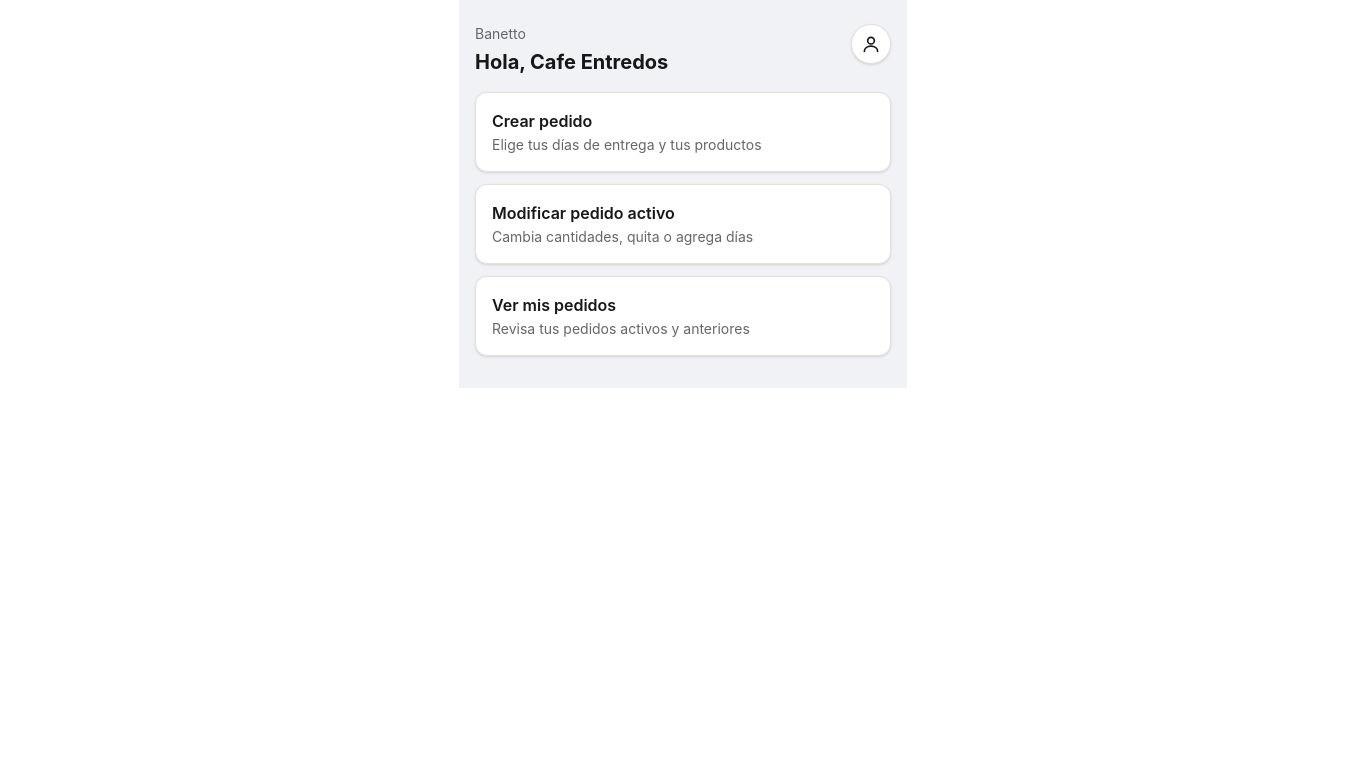
menú: botón de cuenta › varios clientes: «Cambiar de cliente» hace lo de siempre y cierra el menú; tocar fuera también lo cierra
Click the button named "Tu cuenta": click(871, 44) [851, 24, 891, 64]
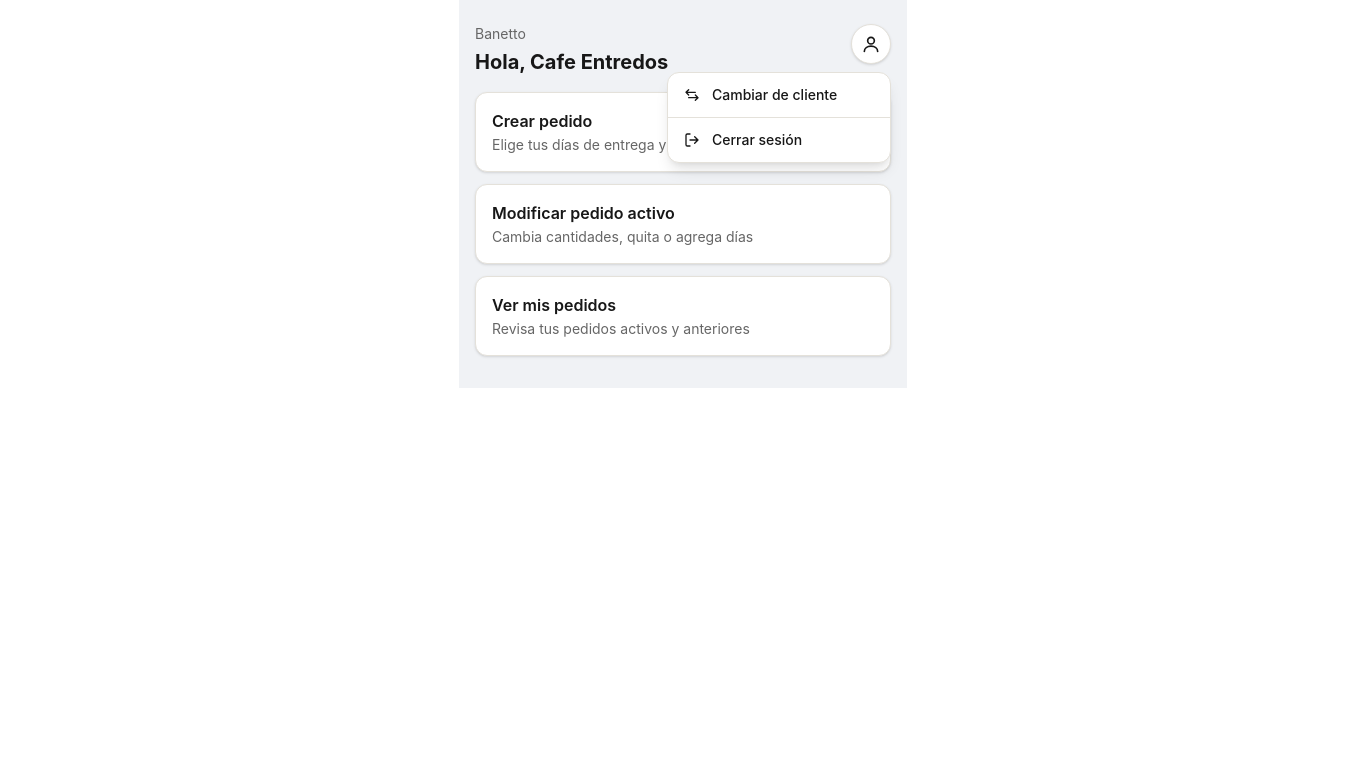
Click the menu item "Cambiar de cliente": click(779, 96) [668, 73, 890, 118]
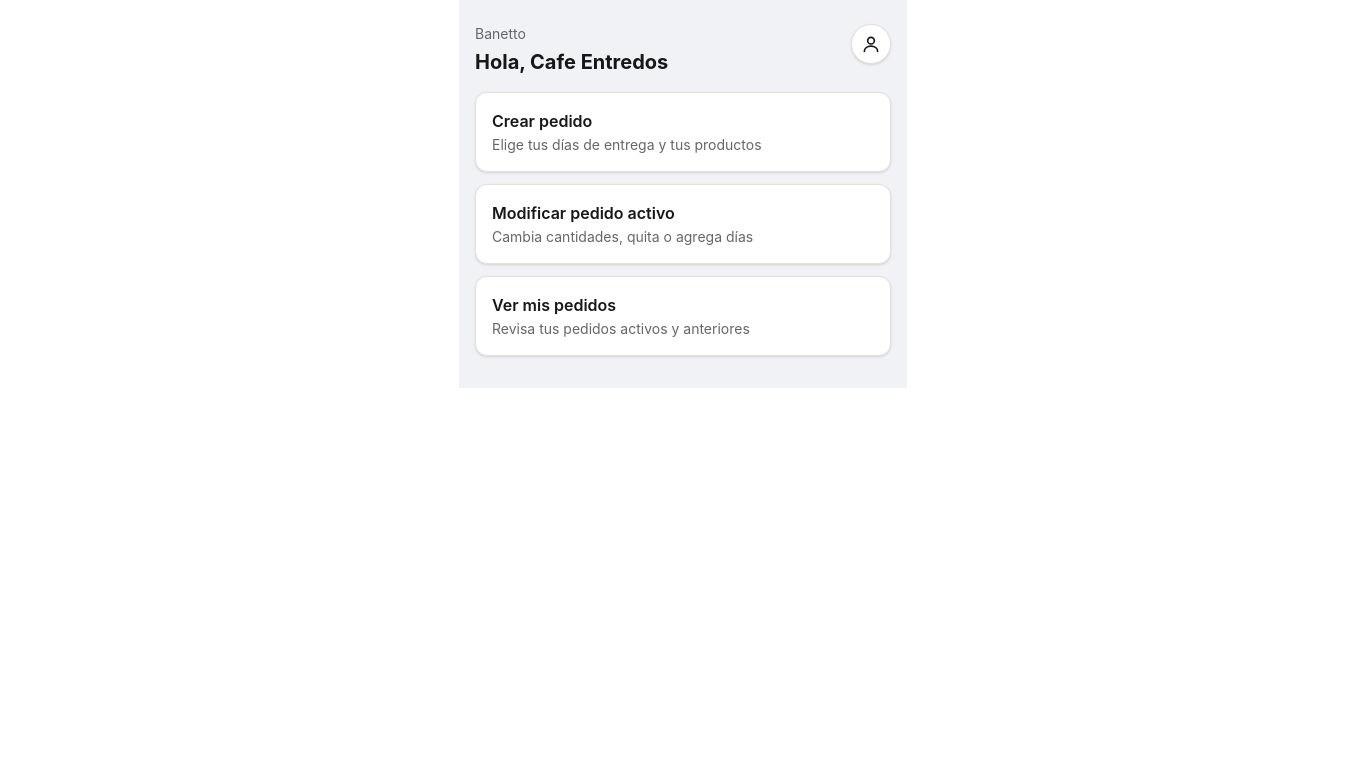
Expected: the menu is gone
Click the button named "Tu cuenta": click(871, 44) [851, 24, 891, 64]
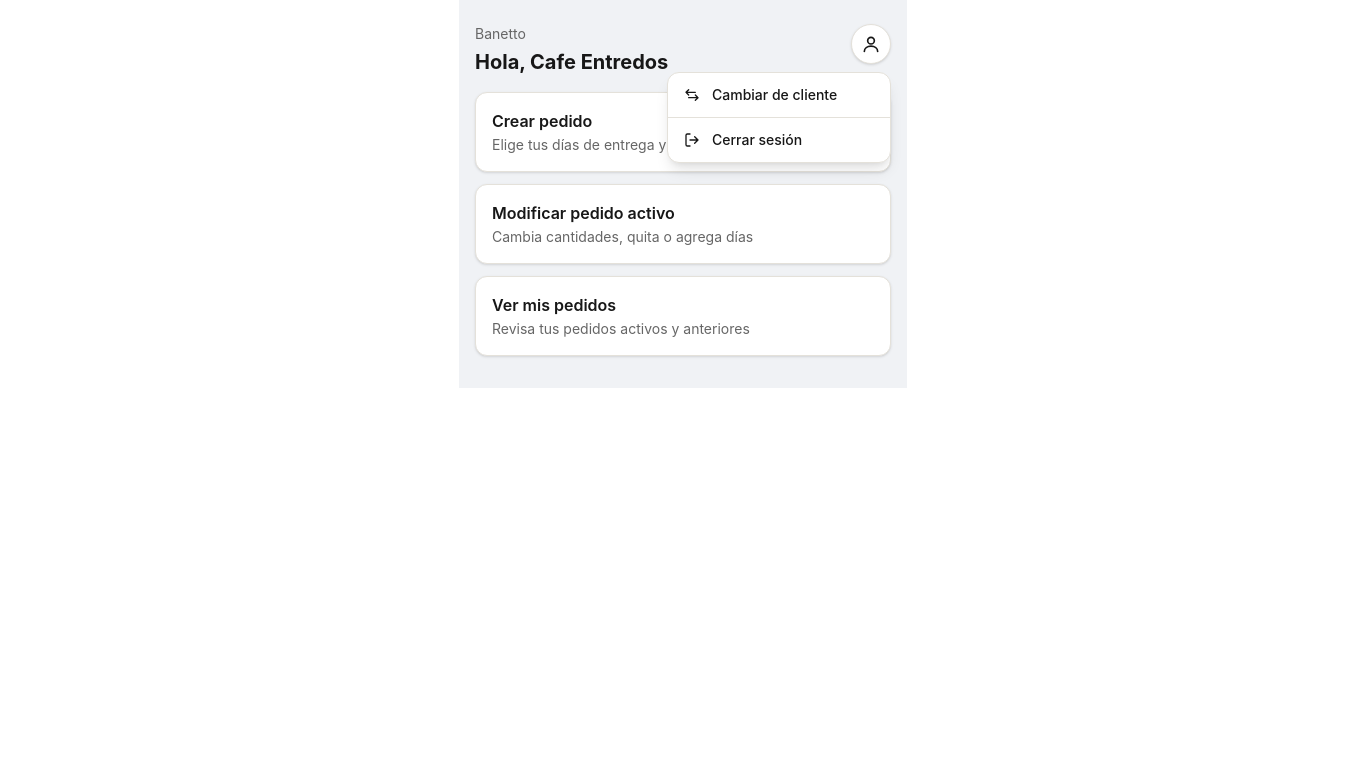
Expected: the menu is shown, [667, 72, 891, 163]
Press the mouse on the element that starts with "Banetto": (683, 384) [0, 0, 1365, 767]
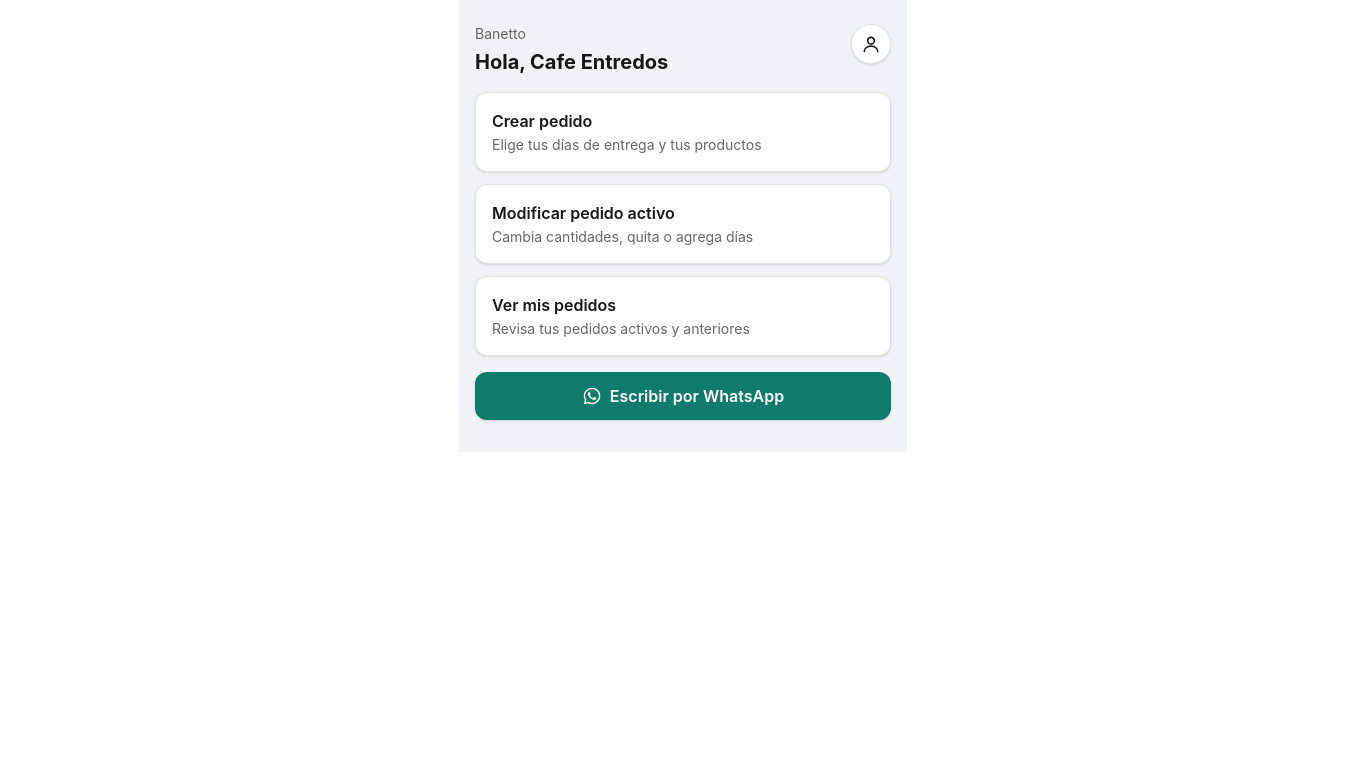
Expected: the menu is gone
